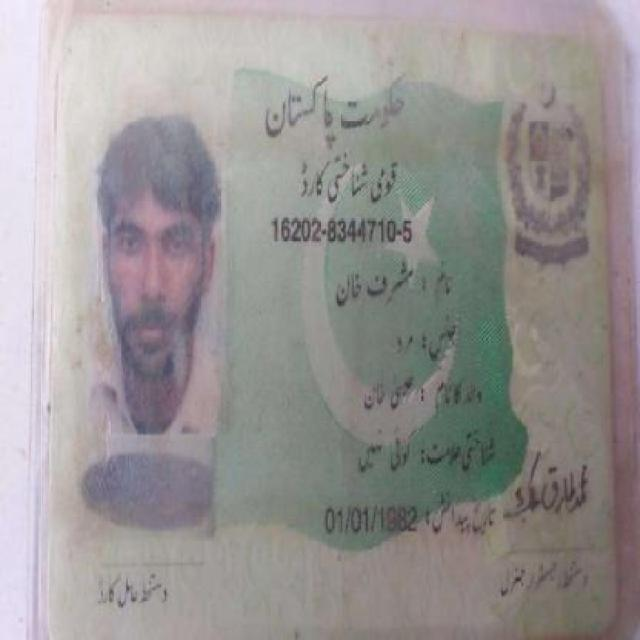Front: (45, 11, 620, 626)
